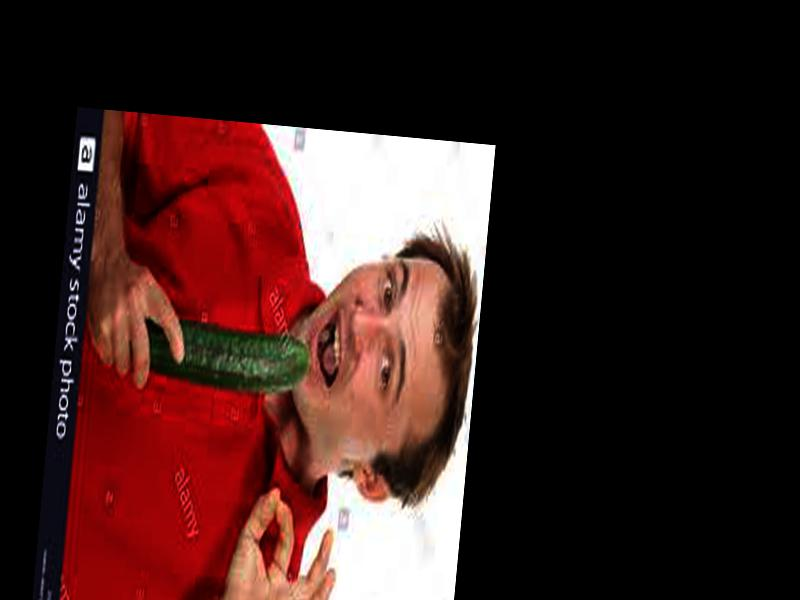Cucumber: (144, 323, 310, 388)
